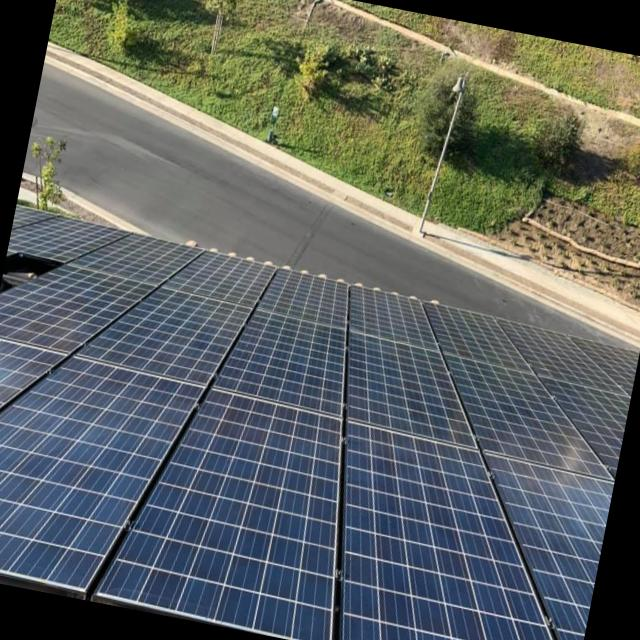no faulty: (0, 233, 637, 640)
